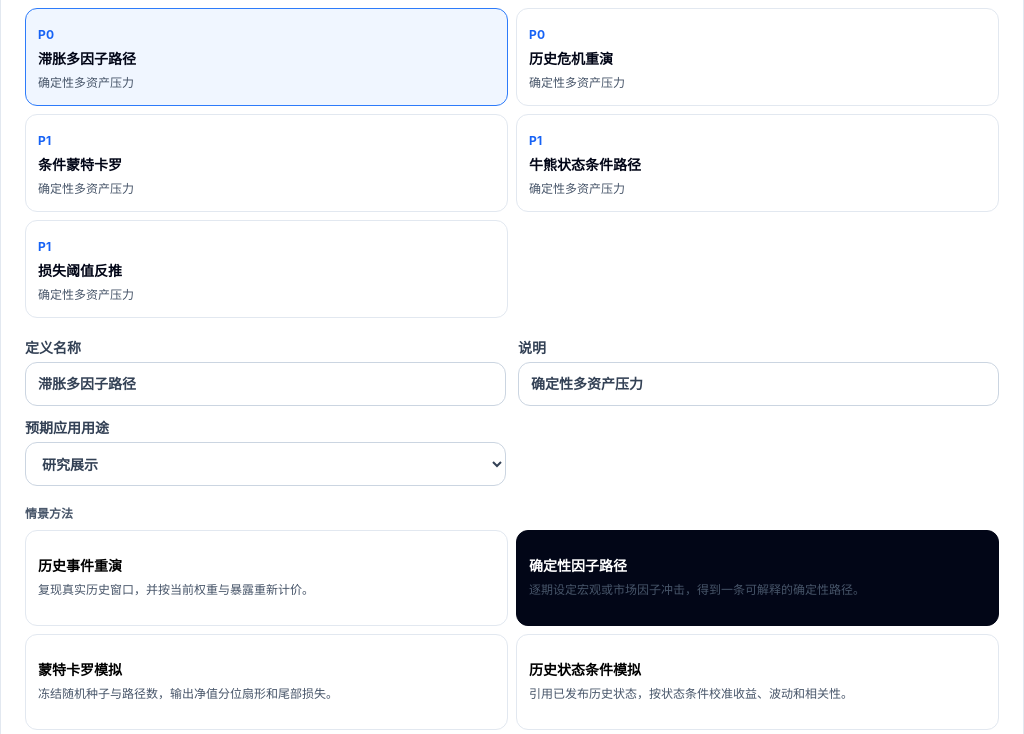
Test: ScenarioAlgorithmCenter › 参数改变后必须保存新修订，再按精确版本运行
(page scrolled)
Replace the text in the field labelled "定义名称" with "滞胀多因子路径修订". click: (266, 384)
box: [25,362,506,406]
(page scrolled)
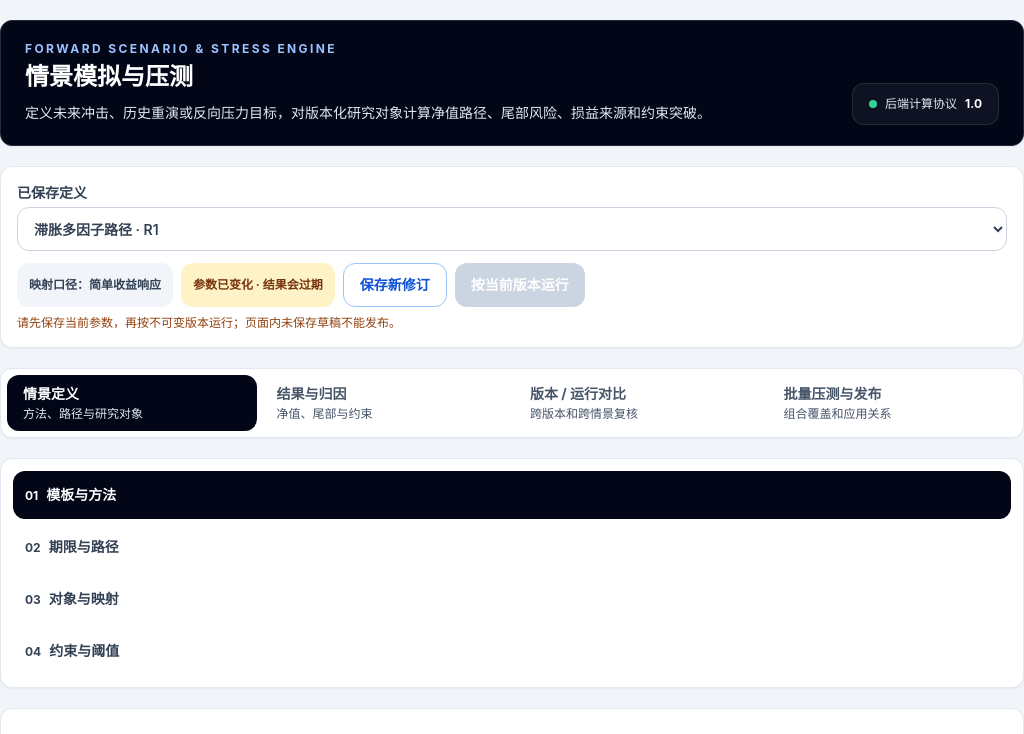
Expected: the text "参数已变化 · 结果会过期" is shown, [181,263,335,307]
Expected: the button "按当前版本运行" is disabled, [455,263,585,307]
Click the button "保存新修订". click: (395, 285)
box: [343,263,447,307]
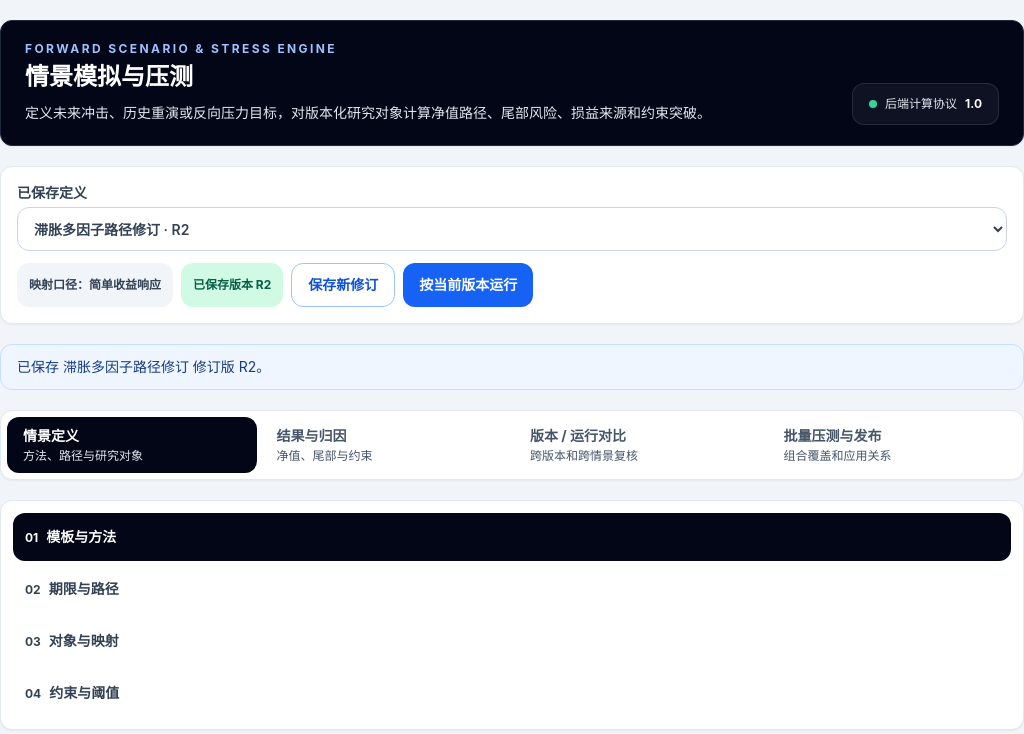
Expected: the text "已保存 滞胀多因子路径修订 修订版 R2。" is shown, [0,344,1023,390]
Click the button "按当前版本运行". click: (468, 285)
box: [403,263,533,307]
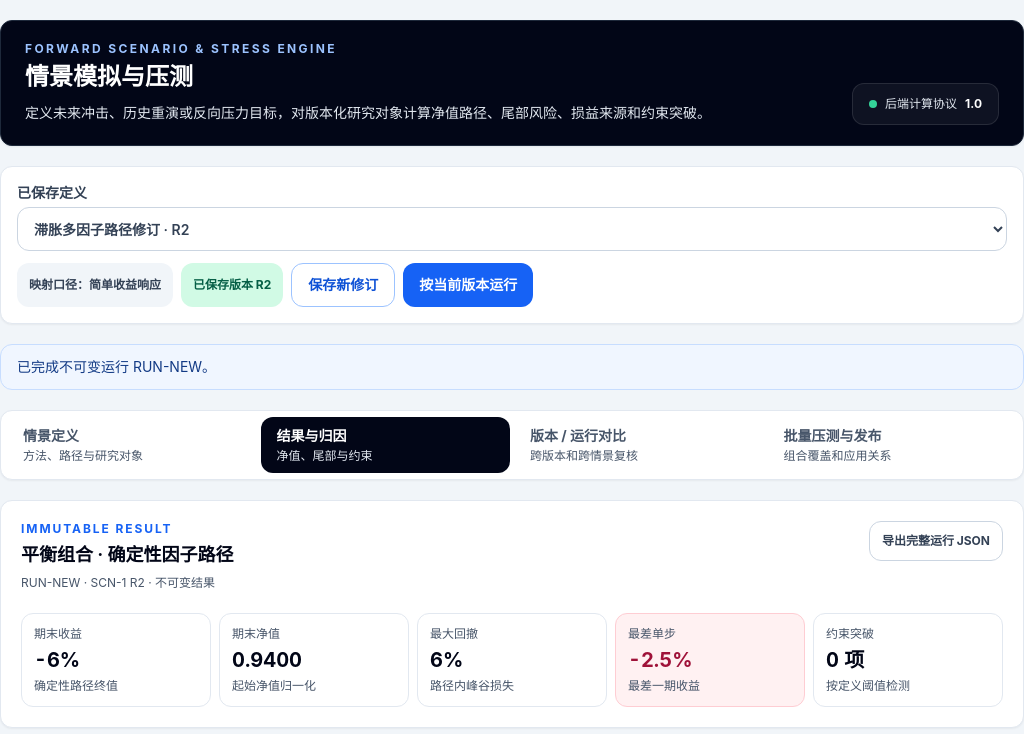
Expected: the text "已完成不可变运行 RUN-NEW。" is shown, [0,344,1023,390]
